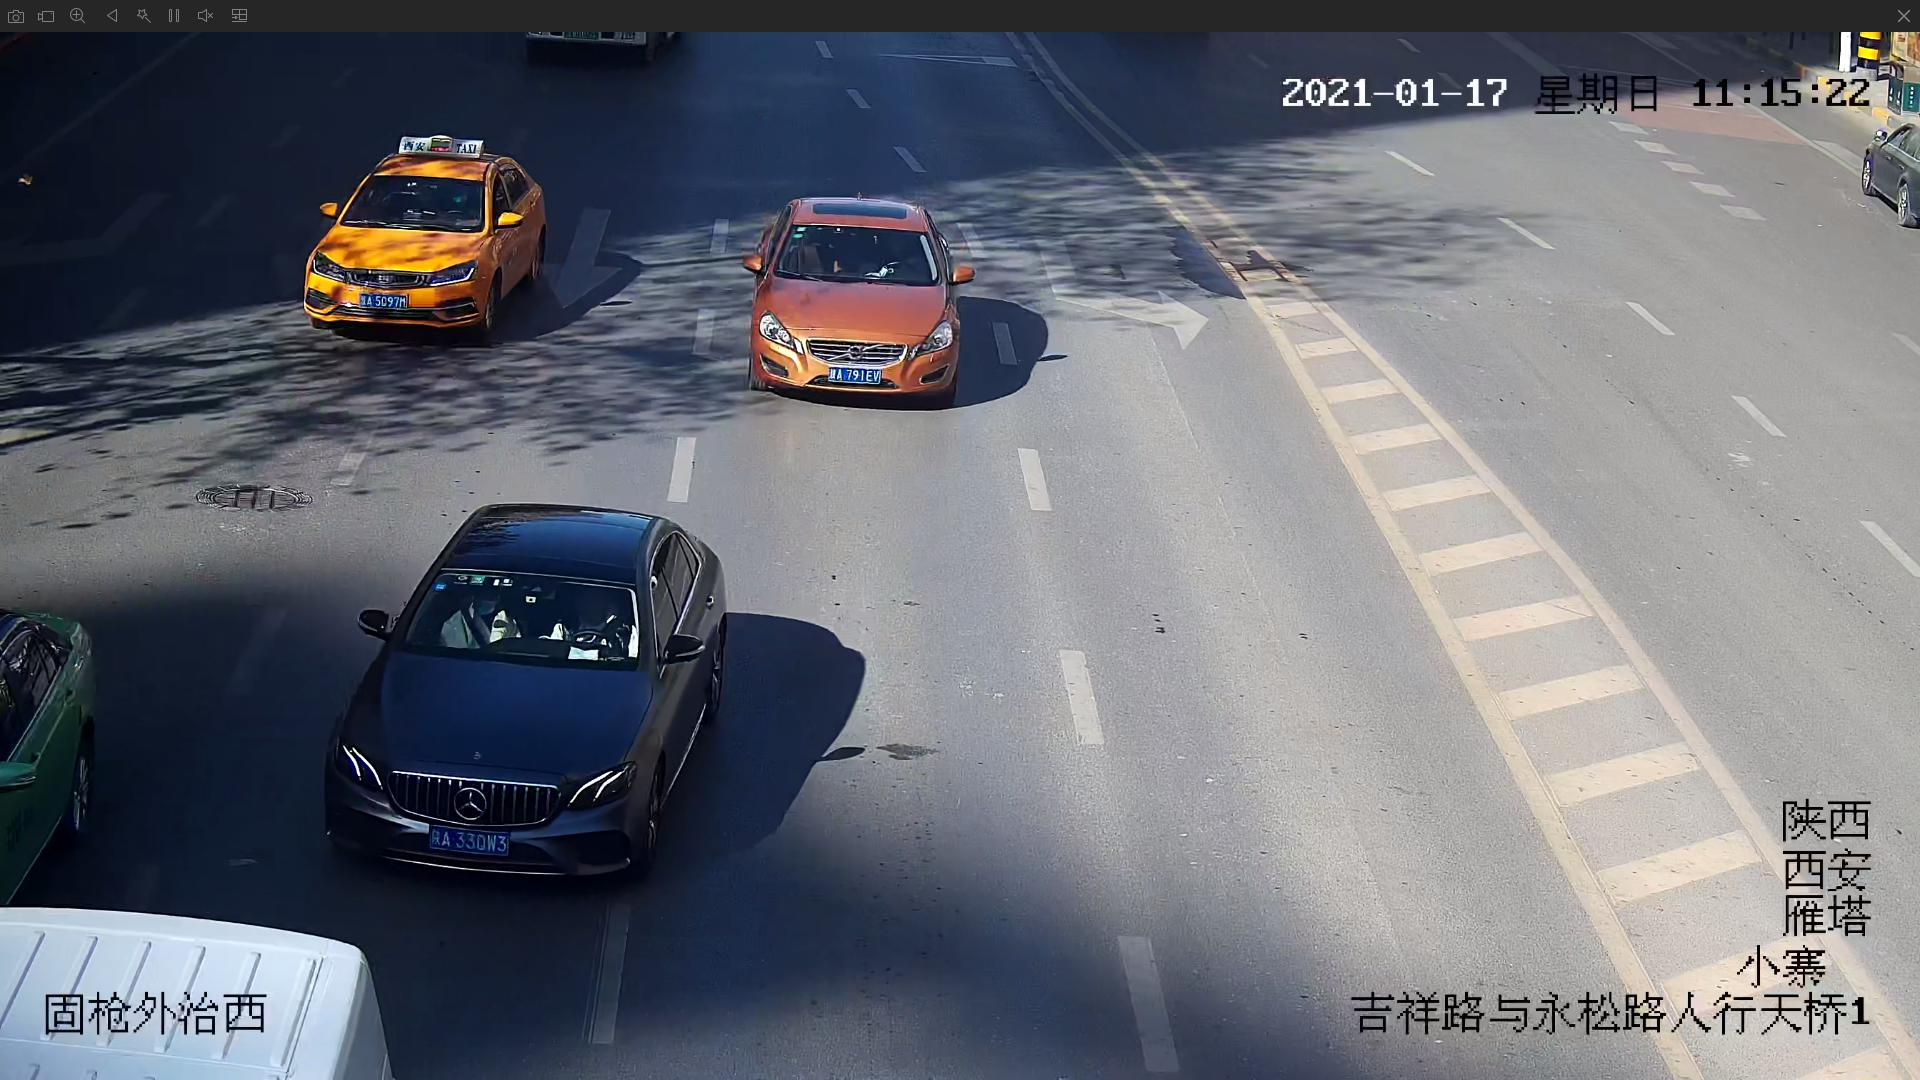black: (327, 501, 732, 898)
brown: (738, 190, 975, 406)
orange: (301, 135, 542, 340)
